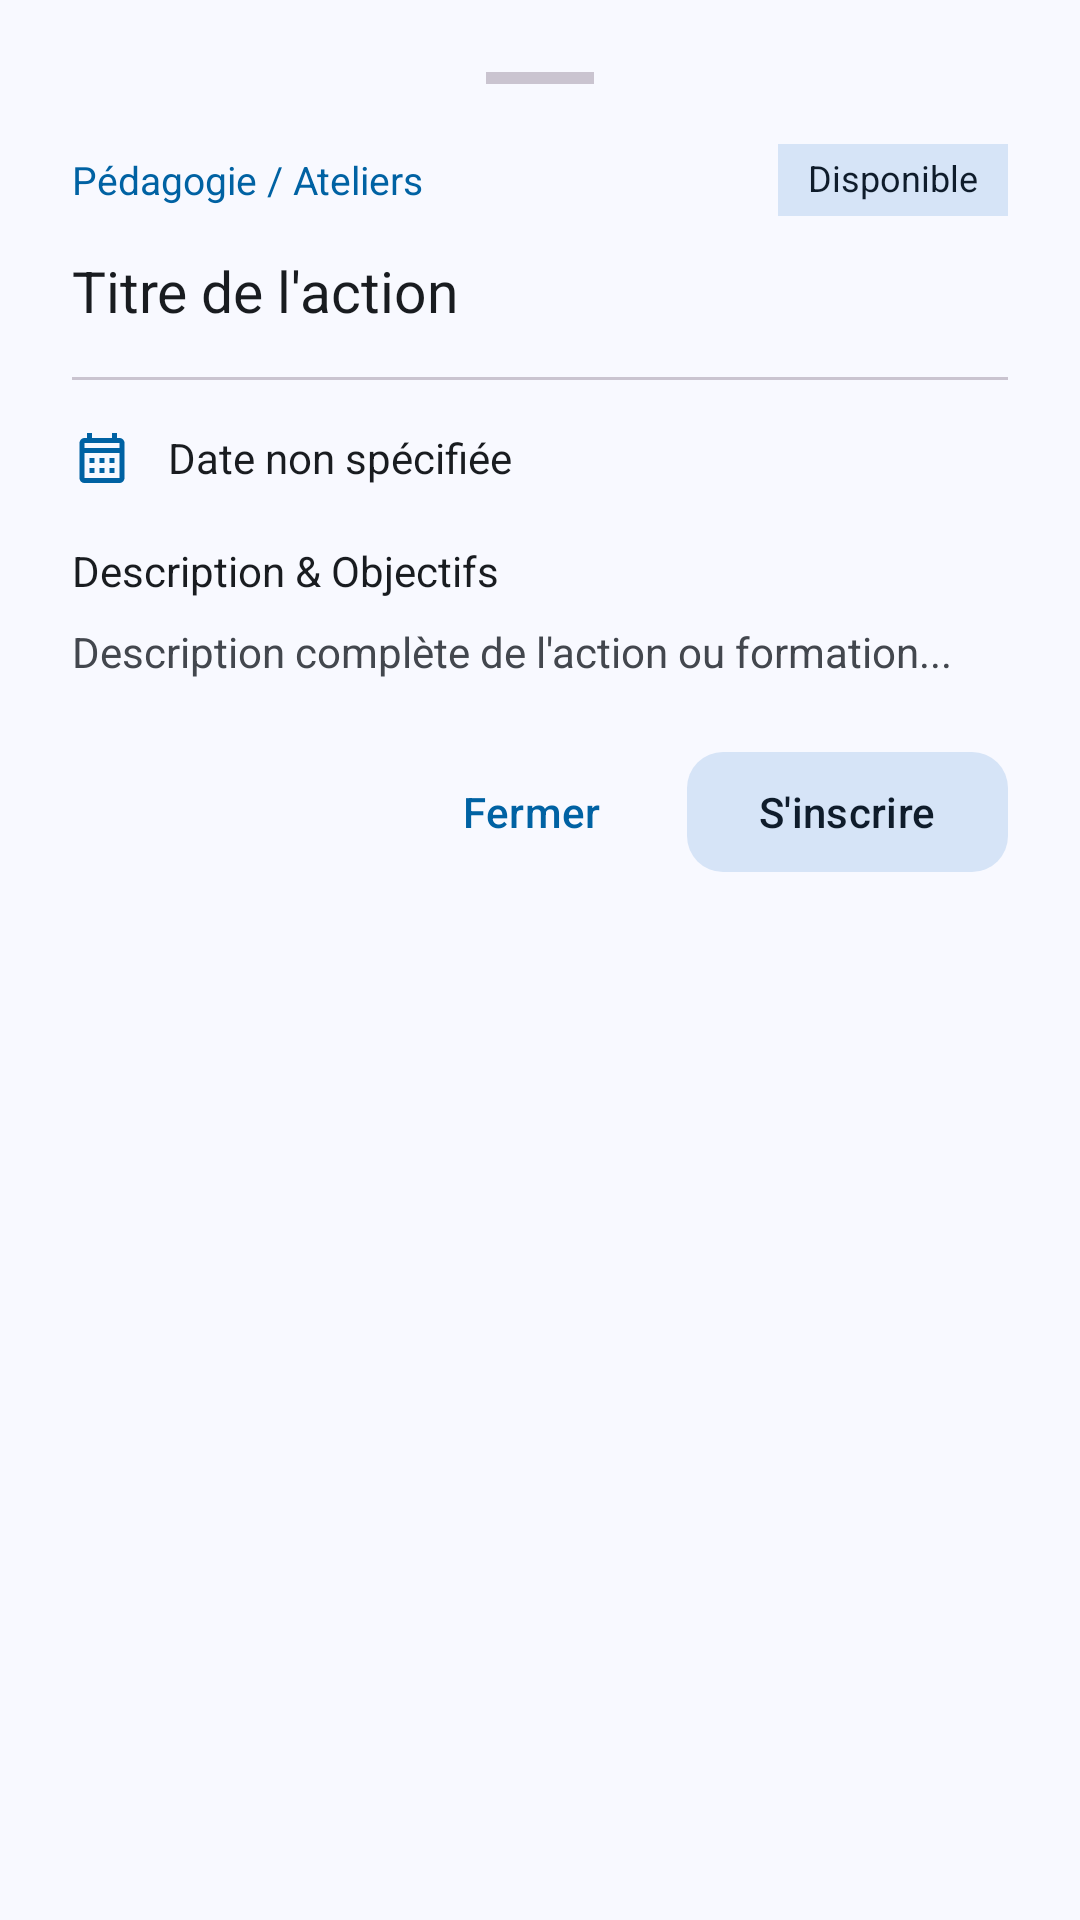

Where icons sit on this 1080px×1920px app screen, as detection(x1, y1, x2, y2):
calendar: detection(79, 433, 125, 483)
